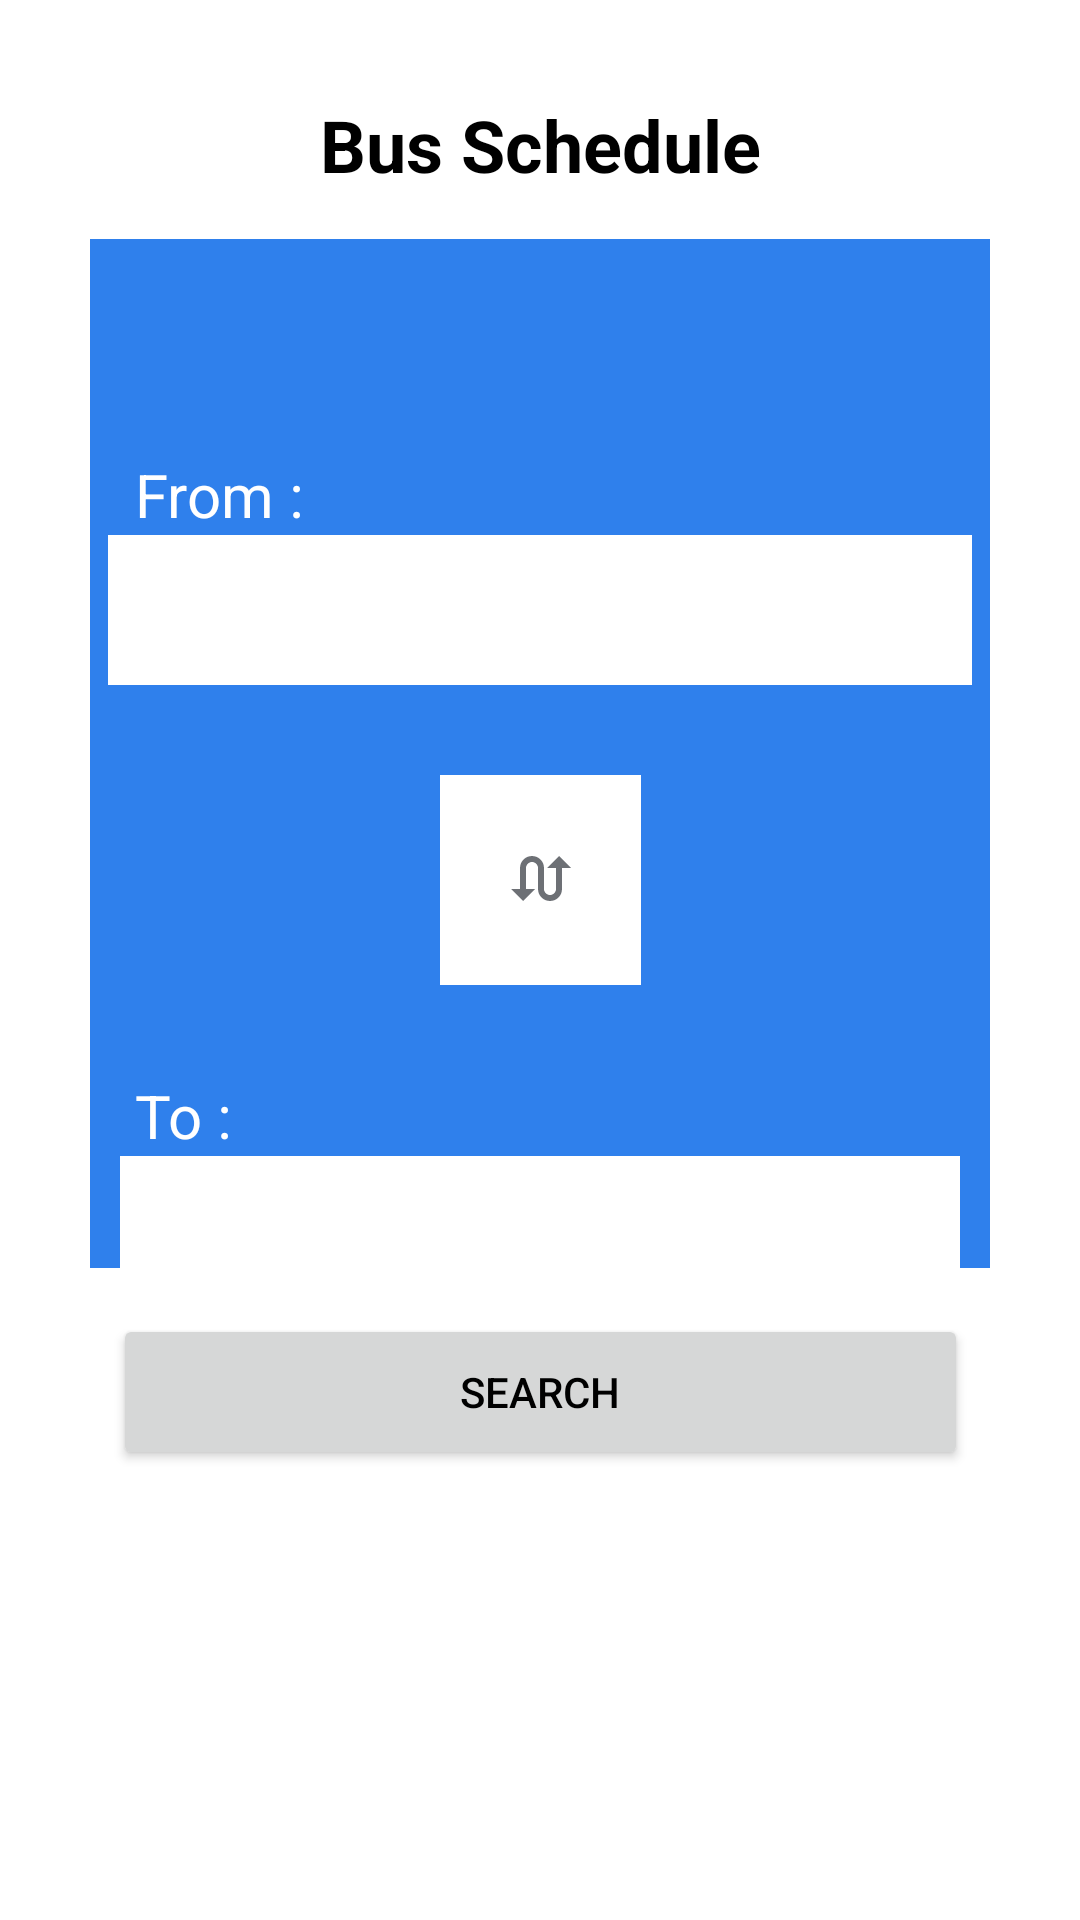

Screen size 1080 x 1920. Icon name, then its box in pixels as box=[x1, y1, x2, y2]:
Swap locations: box=[440, 775, 641, 985]
